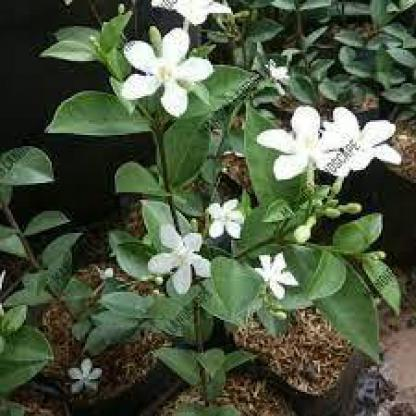Melati: (99, 14, 214, 119), (265, 99, 397, 188), (145, 212, 212, 293), (197, 190, 265, 256), (256, 245, 310, 302)
